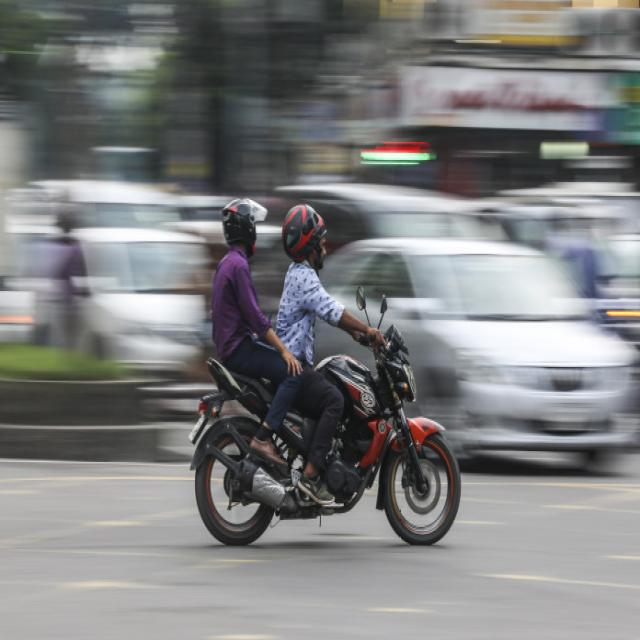motorcycle: (190, 199, 459, 544)
